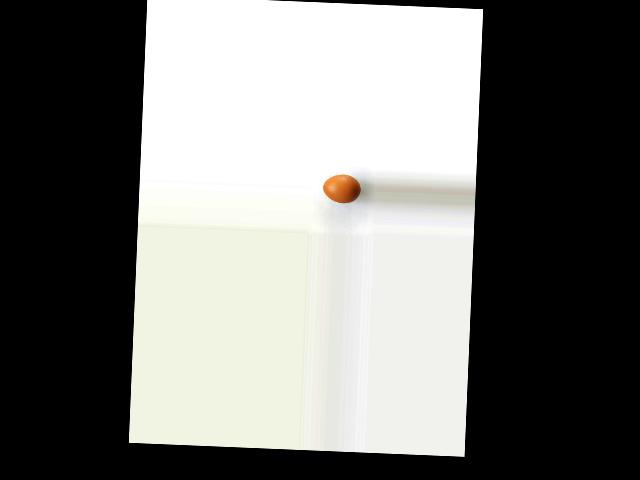egg: (322, 174, 361, 204)
